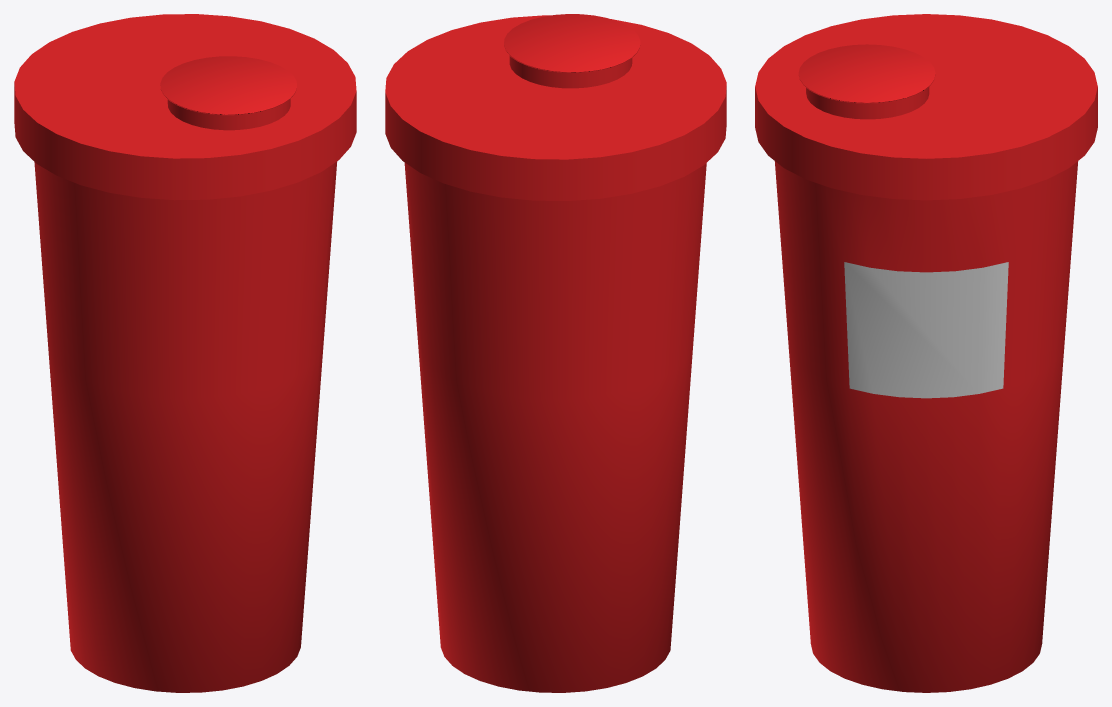
Rendered from Guardian.fbx.
3 views of the same model, side by side, from view 1: azimuth 30°, elevation 25°; view 2: azimuth 150°, elevation 25°; view 3: azimuth 270°, elevation 25° (orthographic).
Parts seen in each view (by area): view 1: Contenedor, Tapa, TapaRemovible; view 2: Contenedor, Tapa, TapaRemovible; view 3: Contenedor, Tapa, TapaRemovible.
Part boxes in pixels (<box>): Contenedor: <box>34,161,337,692</box>; Tapa: <box>14,14,356,200</box>; TapaRemovible: <box>160,56,296,115</box>; Contenedor: <box>404,163,706,692</box>; Tapa: <box>385,15,726,200</box>; TapaRemovible: <box>504,14,640,72</box>; Contenedor: <box>774,161,1078,692</box>; Tapa: <box>755,14,1097,200</box>; TapaRemovible: <box>798,44,935,103</box>.
Bounding box in the file's own units: 296 × 551 × 296.
